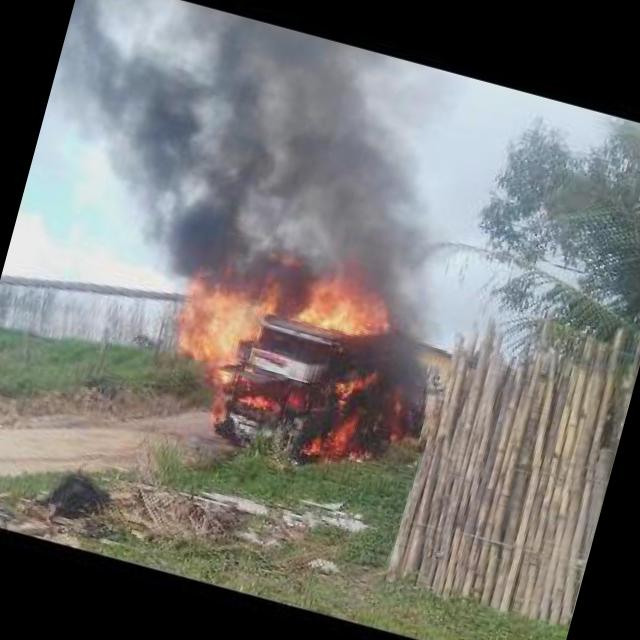fire: (168, 261, 285, 392), (294, 257, 396, 339), (306, 399, 364, 468), (240, 387, 282, 413)
smoke: (14, 0, 486, 334)
